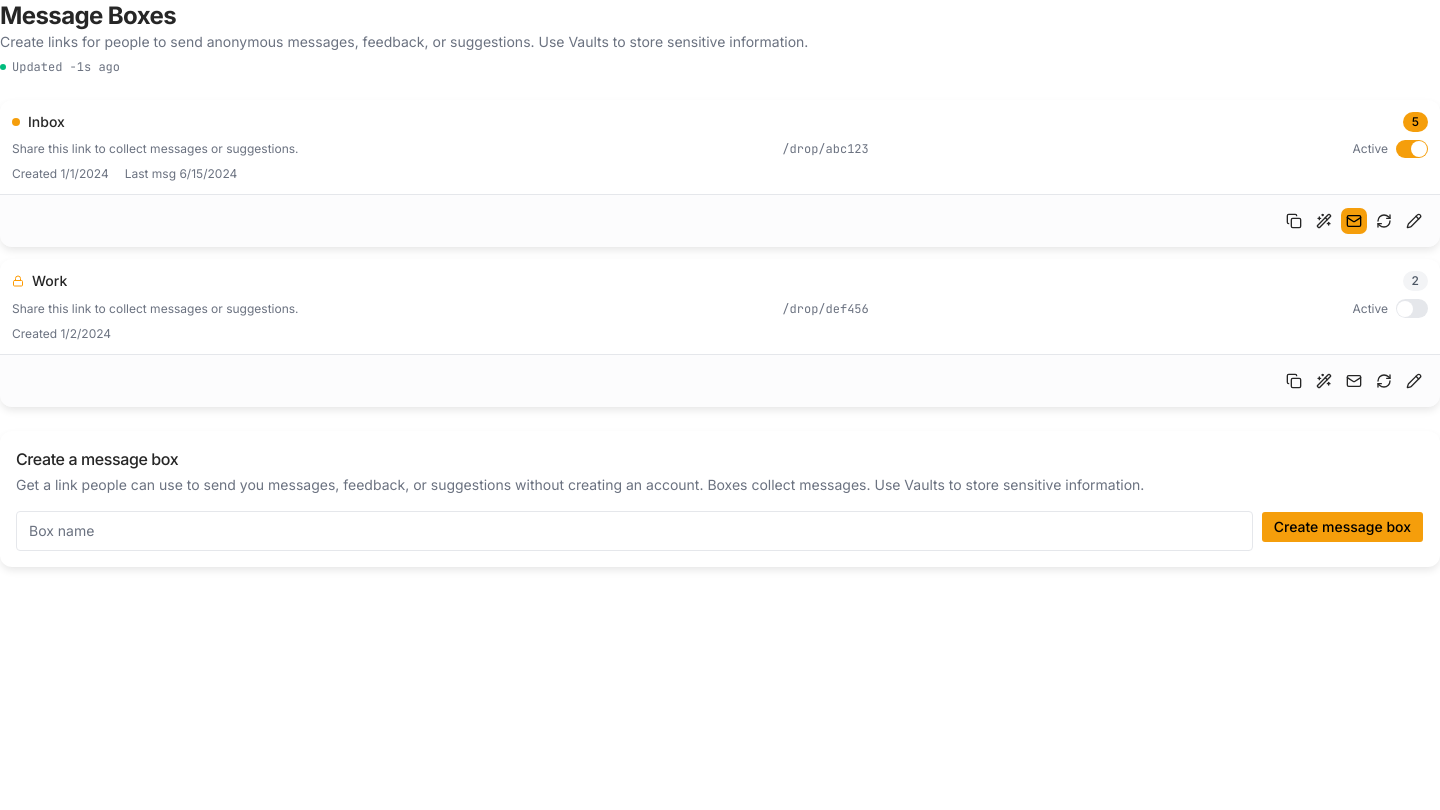
DashboardPage › shows rotate dialog on rotate button click
expect the link "Inbox" is shown: met, box x1=28 y1=112 x2=65 y2=132
What coordinates should you click on to do the following:
click the 1st button named "Rotate drop link"
I would click on:
 (1384, 221)
Its box is x1=1370 y1=207 x2=1398 y2=235.
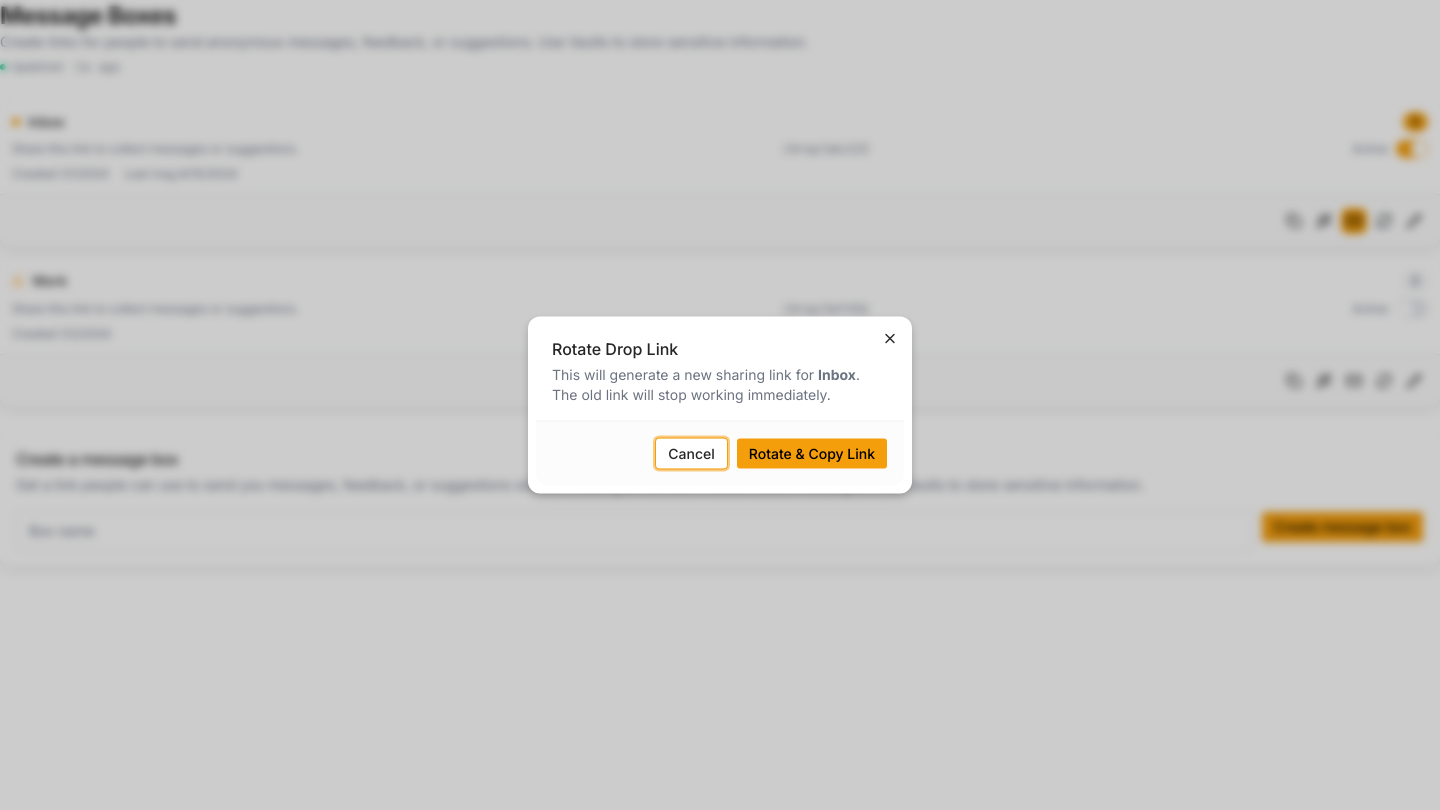
expect the heading "Rotate Drop Link" is shown: met, box x1=552 y1=338 x2=678 y2=358
